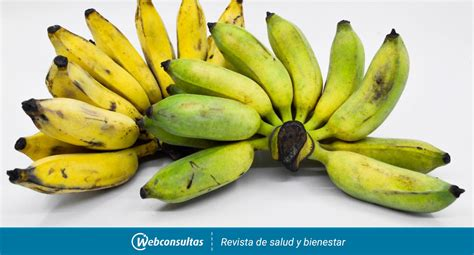banana: (320, 29, 412, 143), (161, 55, 291, 132), (208, 19, 298, 128), (320, 148, 464, 216), (46, 23, 155, 110), (134, 138, 263, 205), (3, 141, 156, 197), (82, 6, 163, 101), (263, 9, 325, 129), (44, 54, 146, 123), (307, 16, 368, 131), (20, 97, 145, 150), (139, 97, 282, 139), (131, 1, 176, 93), (174, 1, 210, 70)
